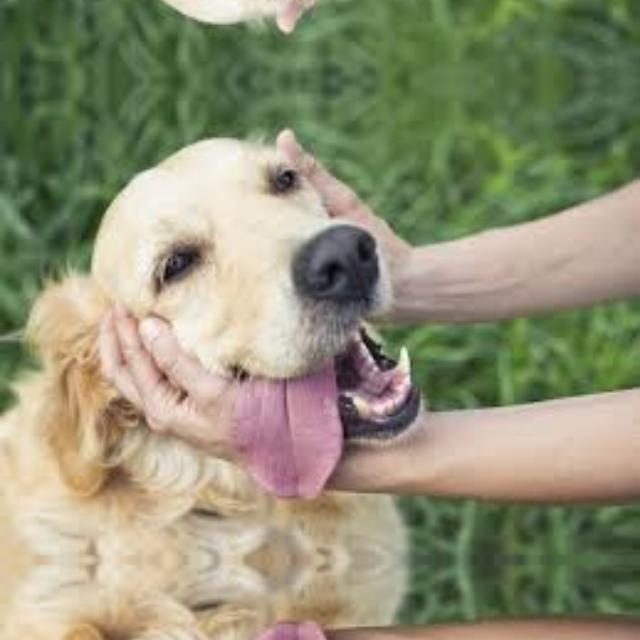dog: (48, 106, 414, 560), (48, 559, 414, 640), (48, 0, 414, 53)
